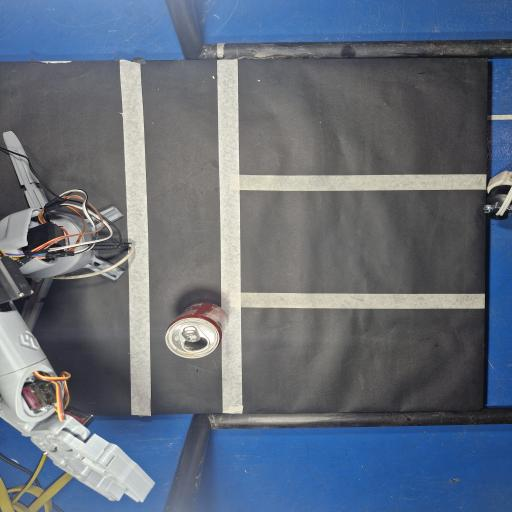lata: (166, 302, 228, 358)
